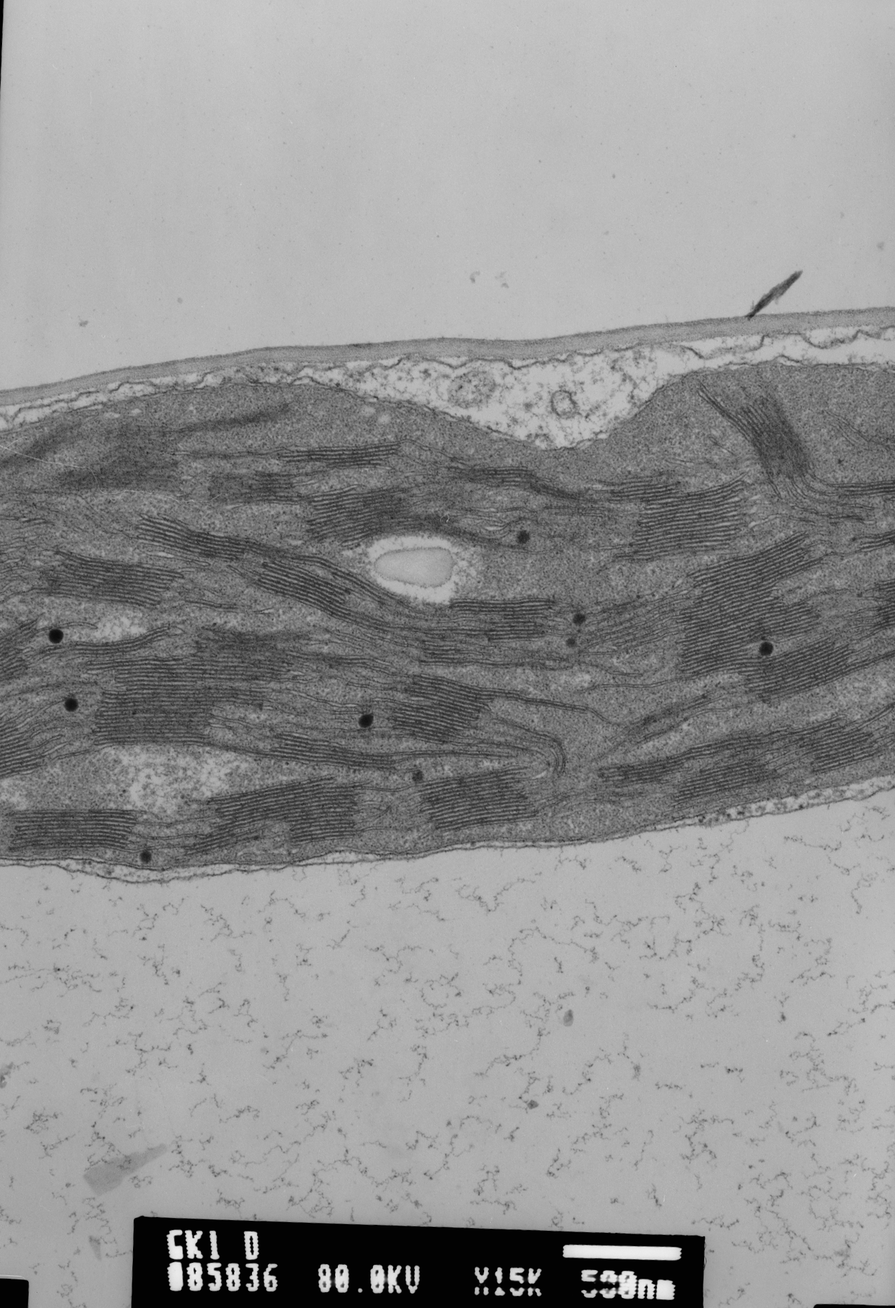granum: (670, 523, 825, 684), (90, 650, 276, 750), (602, 470, 753, 564), (211, 771, 361, 847), (386, 668, 524, 748), (250, 560, 390, 636), (299, 482, 457, 549), (737, 633, 873, 709), (32, 548, 181, 617), (413, 764, 544, 837), (129, 510, 287, 564), (57, 434, 186, 496), (728, 397, 817, 486), (191, 622, 312, 686), (4, 805, 142, 856), (668, 755, 783, 810), (267, 728, 402, 773), (37, 624, 177, 665), (792, 714, 884, 776), (446, 594, 556, 645), (0, 420, 83, 487), (618, 689, 716, 739), (205, 464, 305, 509), (273, 438, 406, 471), (593, 748, 691, 790), (329, 562, 399, 613), (0, 712, 50, 783), (686, 725, 772, 764), (0, 615, 43, 691), (459, 461, 551, 496), (771, 597, 825, 645), (186, 819, 241, 856), (864, 576, 895, 638), (838, 473, 895, 502), (418, 640, 469, 670), (310, 650, 372, 672), (854, 525, 895, 555), (420, 624, 471, 645)
